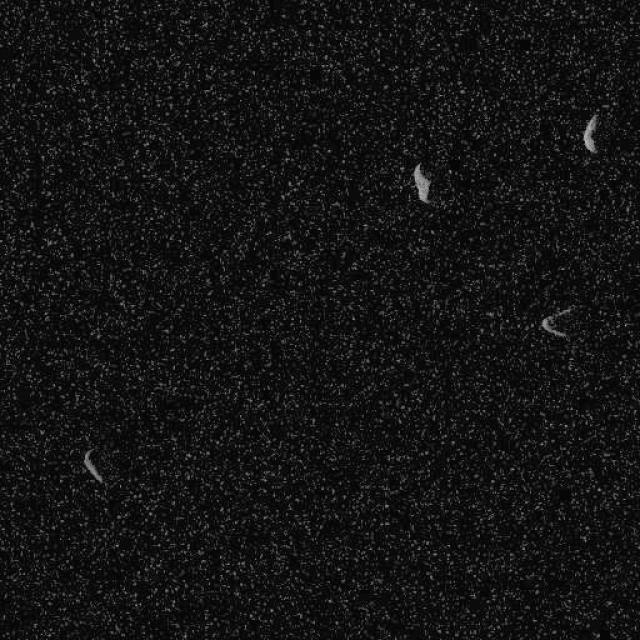D2: (539, 303, 575, 342), (81, 446, 105, 485), (411, 160, 431, 204), (581, 112, 599, 154)
